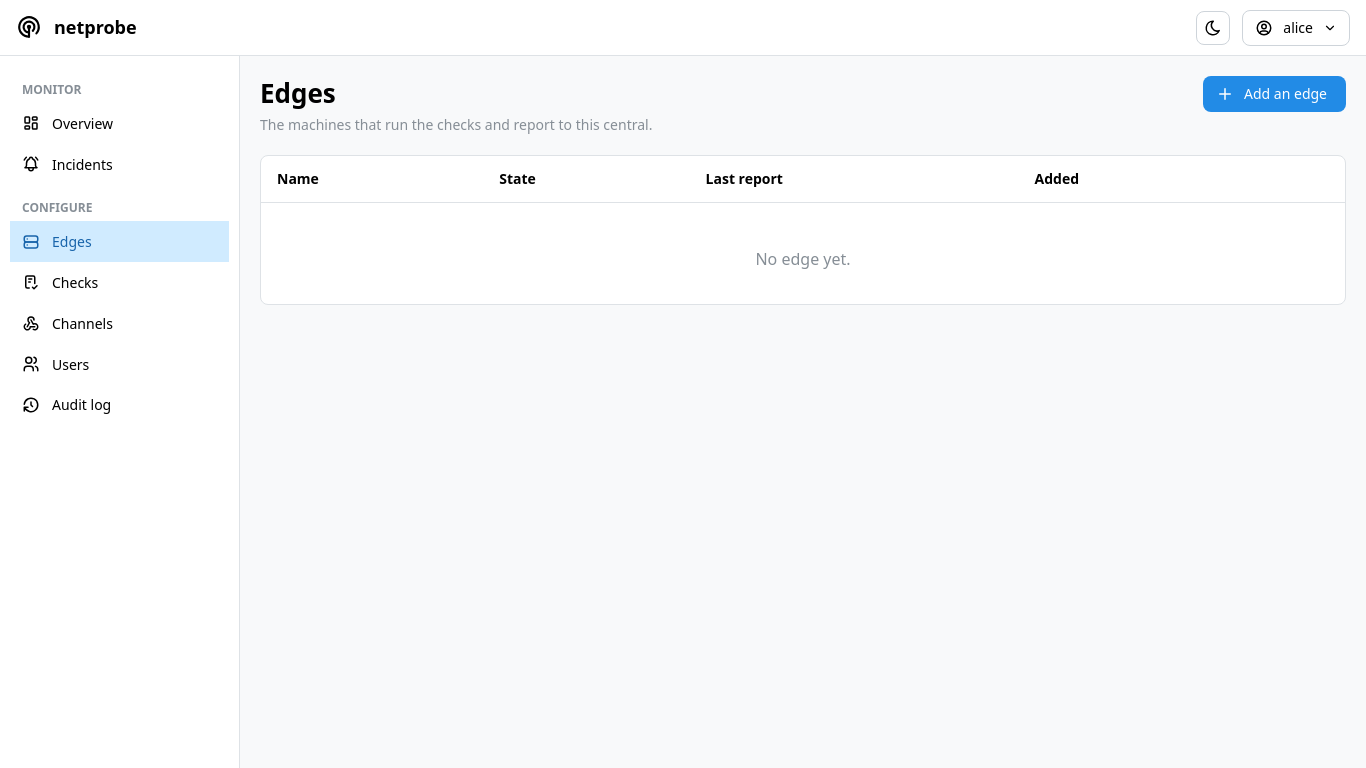
Test: edges › shows what the central refuses
The image size is (1366, 768).
Click the button "Add an edge". click: (1274, 94)
box: 1203,76 -> 1346,112
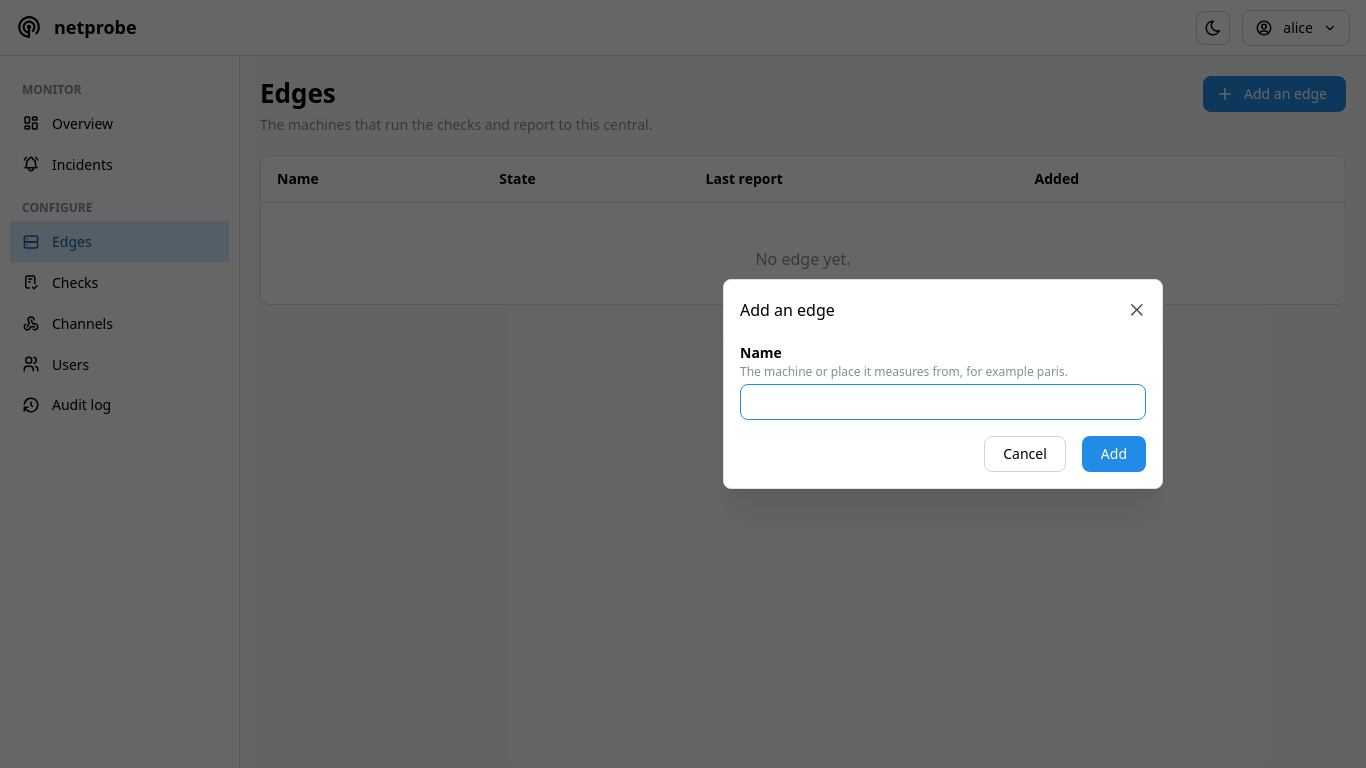
Type "paris" into the field labelled "Name". click: (943, 402)
box: 740,384 -> 1146,420
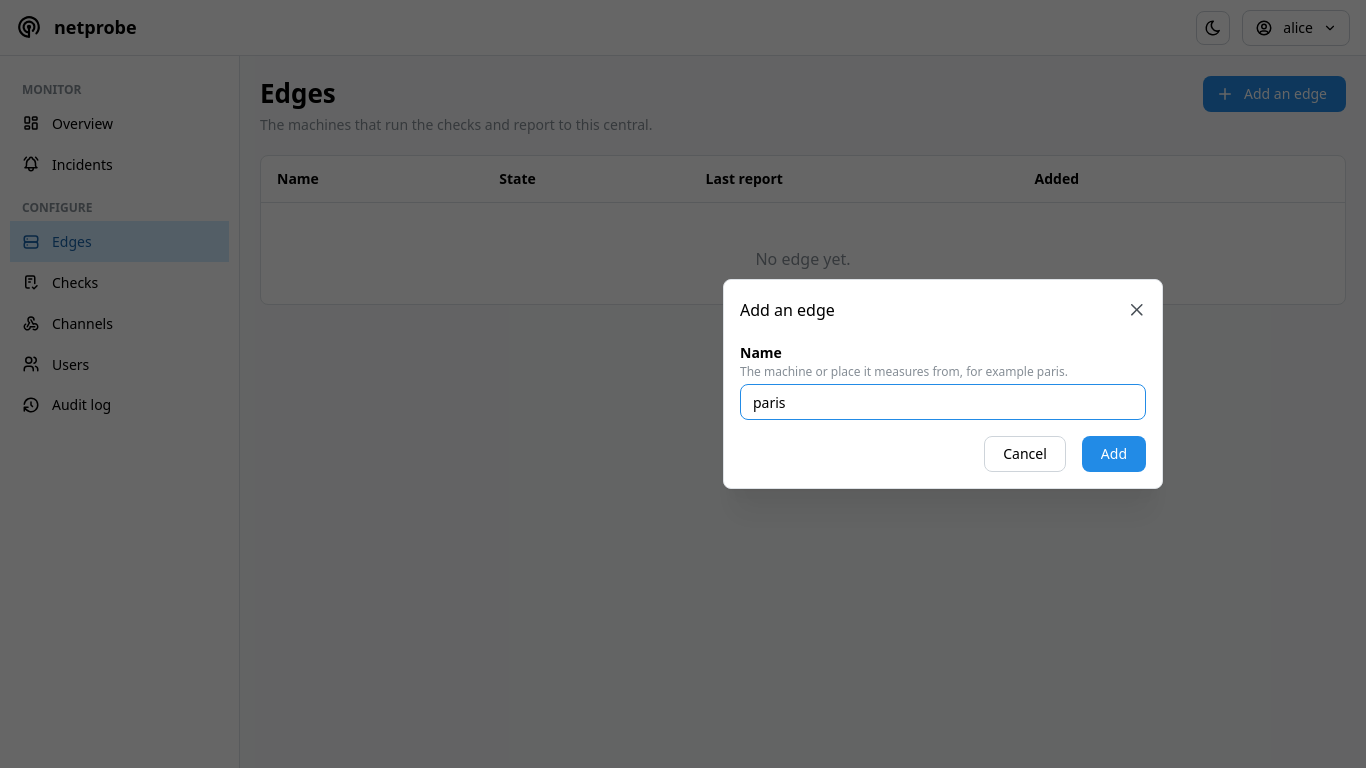
Click the button "Add". click: (1114, 454)
box: 1082,436 -> 1146,472
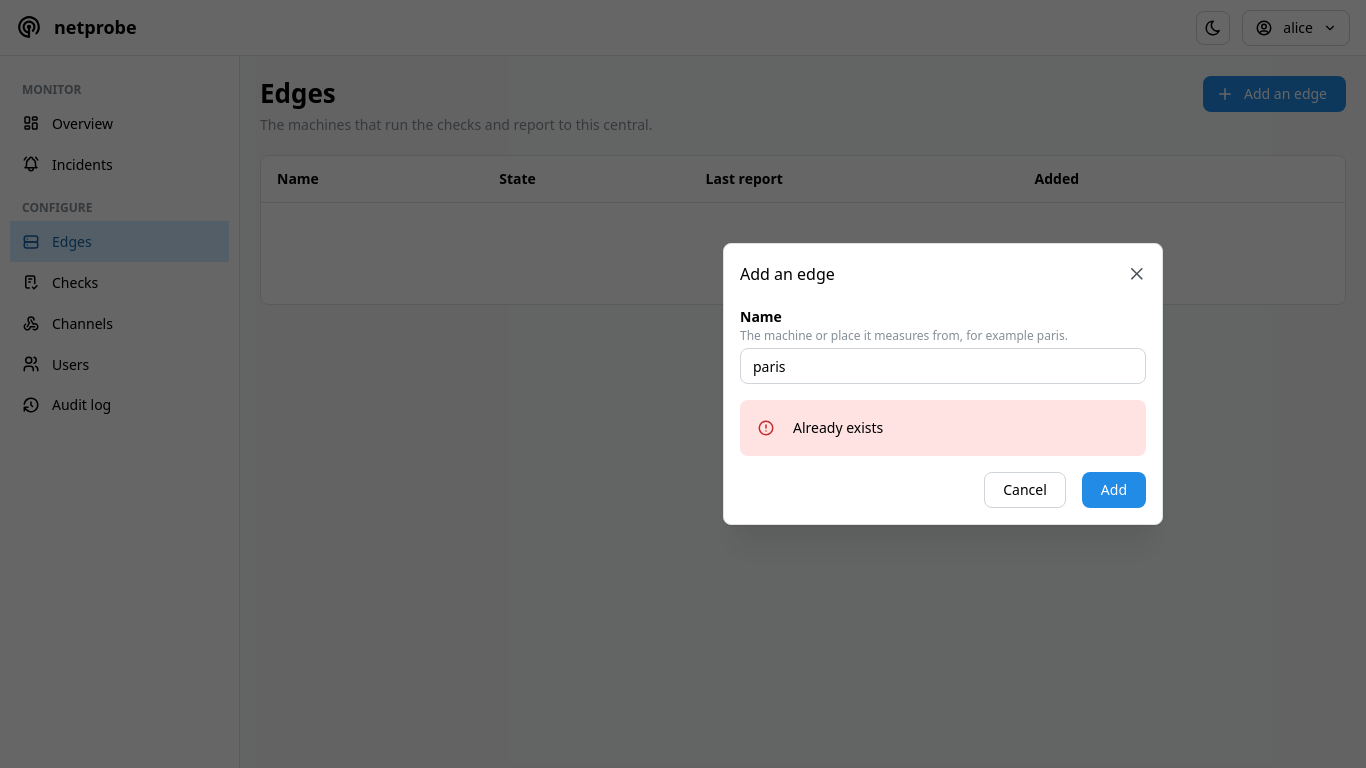
Now the text "Already exists" is shown, box 793,418 -> 883,437
